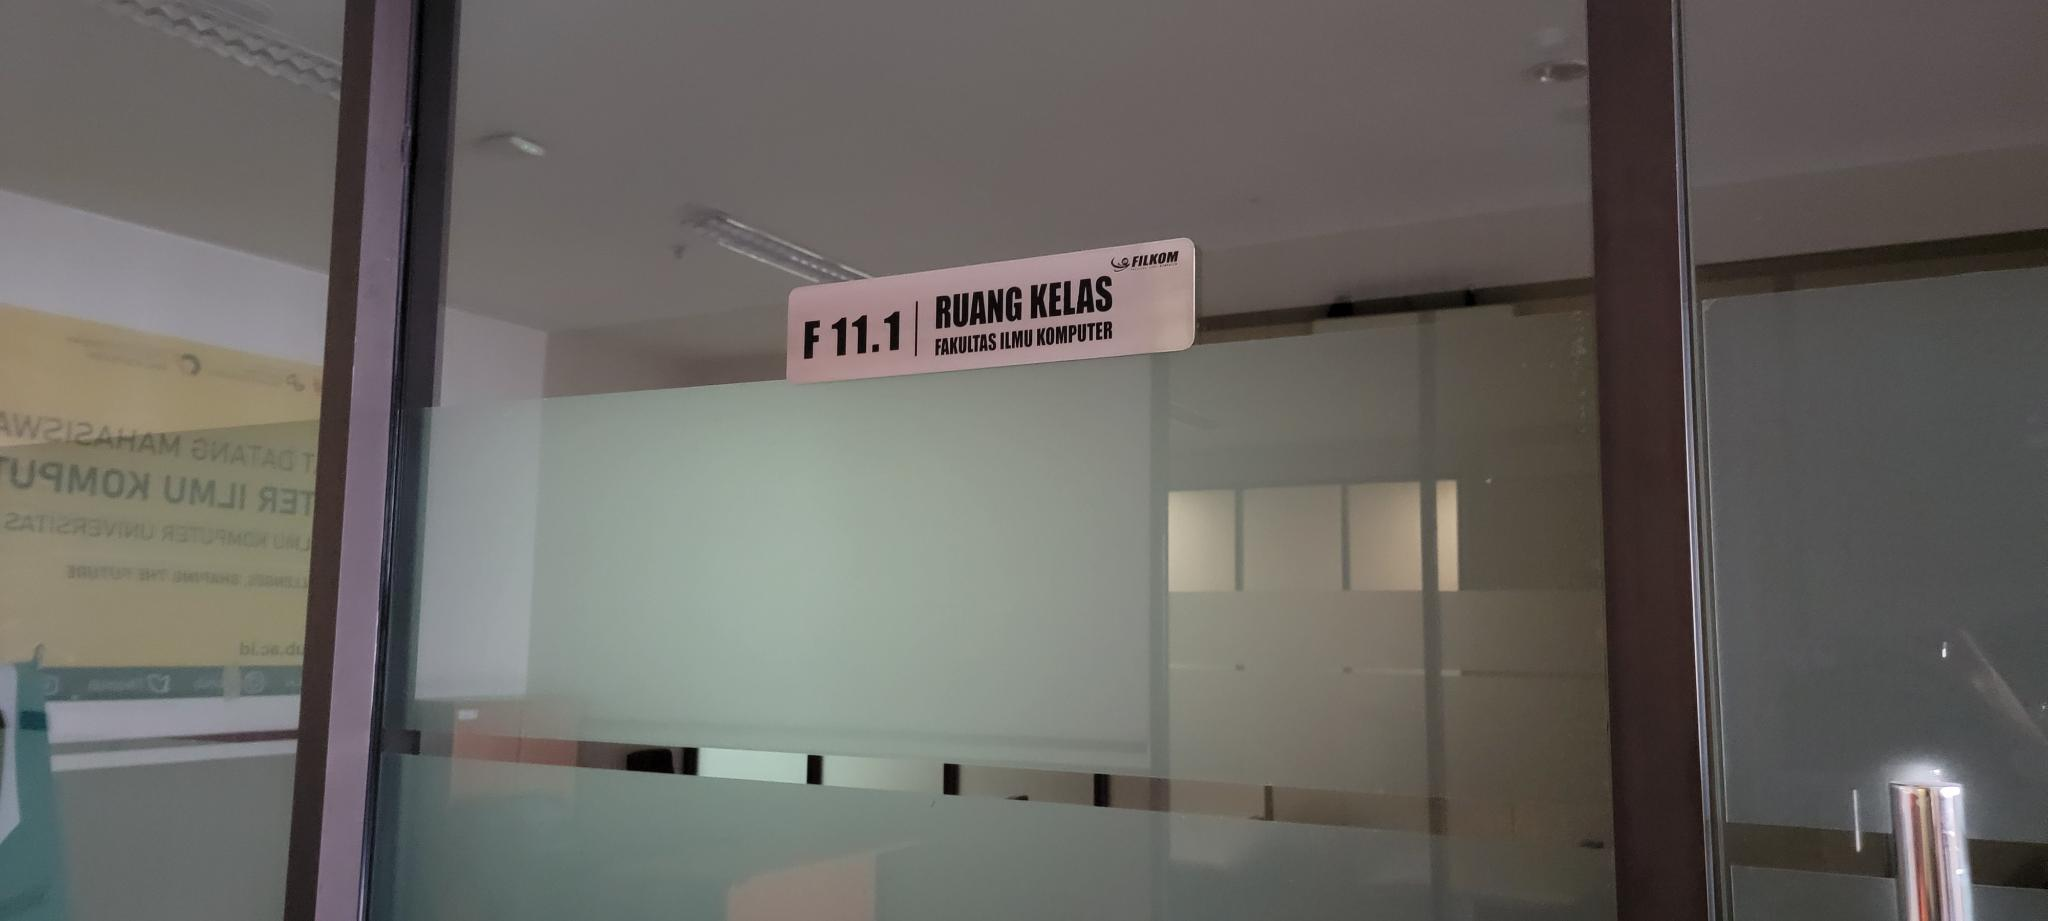plate: (781, 235, 1200, 391)
